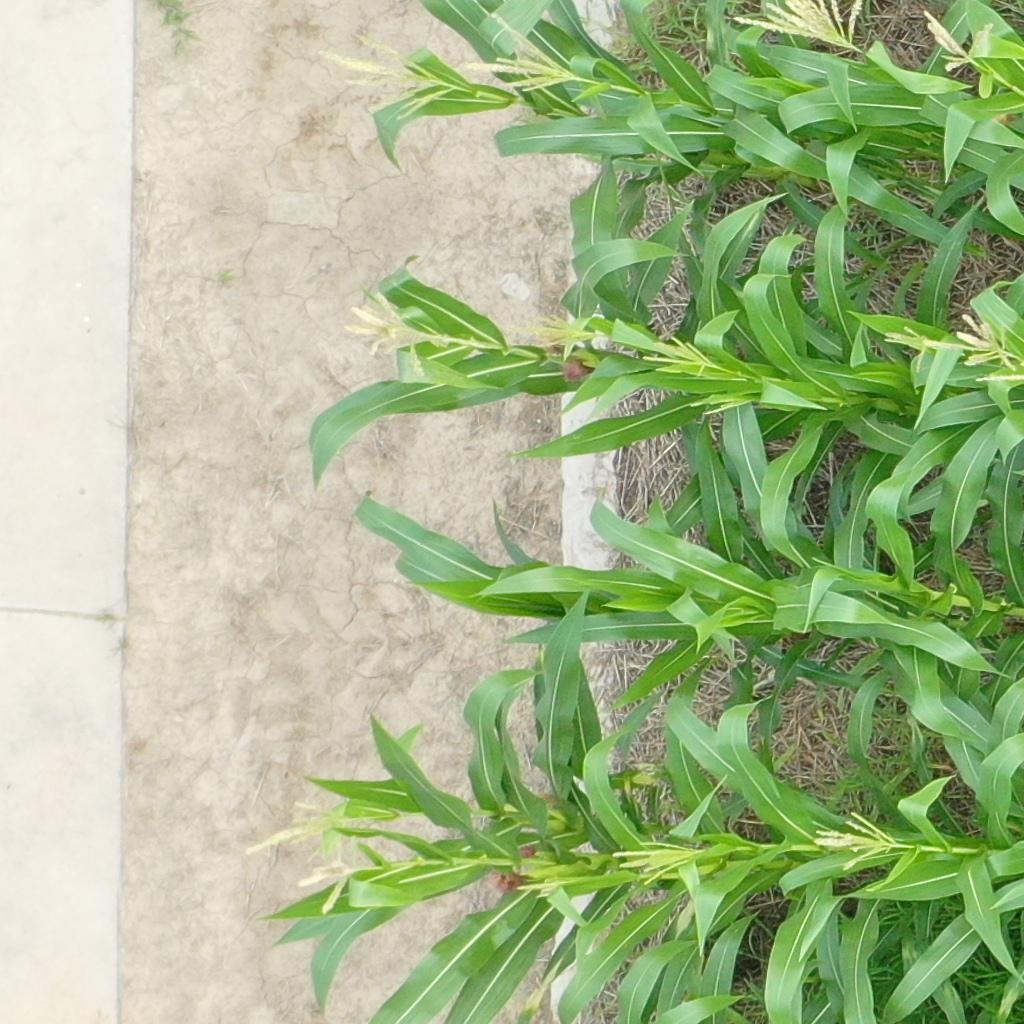Tassel: (315, 32, 456, 122), (460, 12, 579, 93), (346, 291, 439, 380), (731, 1, 865, 54), (240, 797, 347, 863), (919, 6, 997, 77), (816, 811, 897, 876), (957, 310, 1024, 385), (292, 849, 364, 917), (610, 835, 705, 886), (879, 323, 971, 368), (640, 334, 721, 378), (506, 313, 581, 353), (689, 391, 757, 420), (516, 877, 572, 904)
